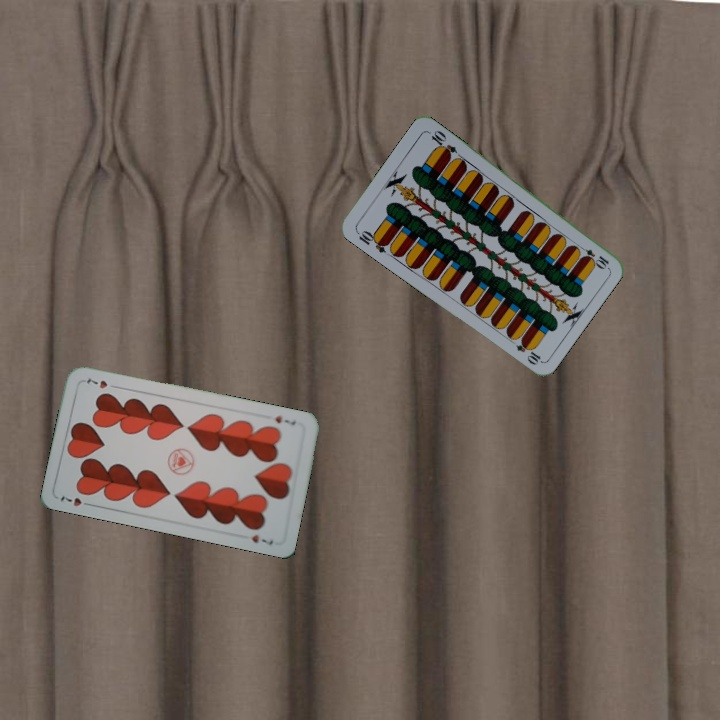E10: (574, 241, 611, 271), (353, 226, 391, 255)
H7: (56, 492, 95, 509), (271, 411, 298, 428)
